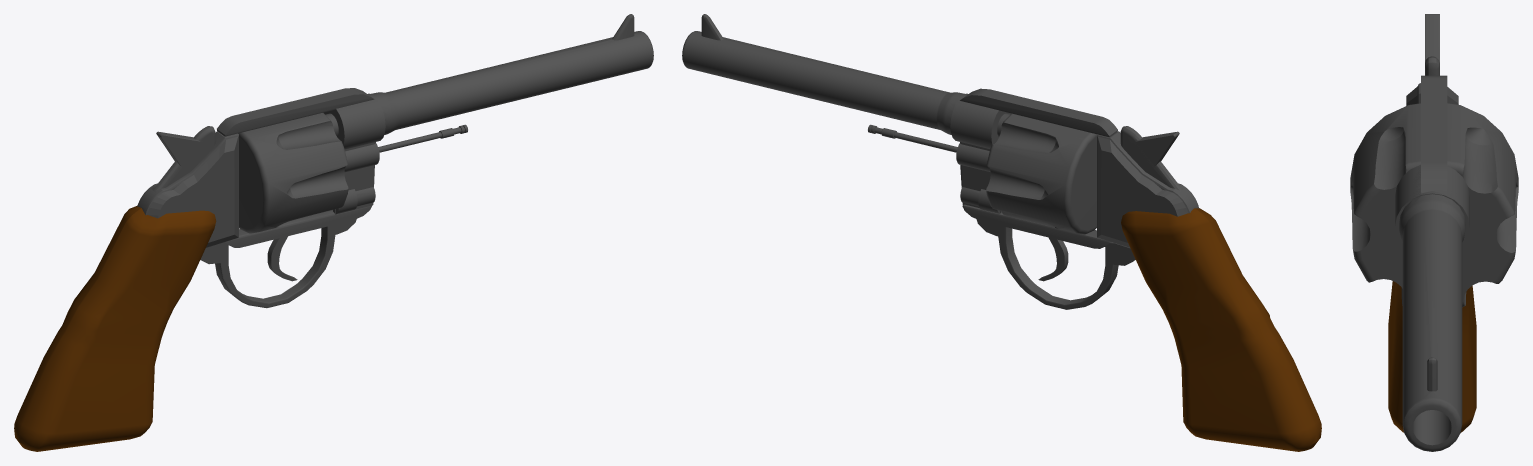
The model's file is revolver.fbx.
The picture shows the model from 3 angles, left to right: view 1: azimuth 30°, elevation 25°; view 2: azimuth 150°, elevation 25°; view 3: azimuth 270°, elevation 25°; orthographic projection. The views are drawn at different scales.
Visible parts, largest first — view 1: pCube24, pCube23, pCylinder12, pCylinder25; view 2: pCube24, pCube23, pCylinder12; view 3: pCube24, pCube23, pCylinder12.
Boxes of the visible parts, x1,y1,x2,y2 form: pCube24: (14,14,653,451); pCube23: (139,88,373,247); pCylinder12: (323,93,385,214); pCylinder25: (344,143,379,172); pCube24: (682,14,1321,451); pCube23: (961,89,1189,247); pCylinder12: (950,95,1011,213); pCube24: (1350,14,1518,451); pCube23: (1406,14,1458,162); pCylinder12: (1395,165,1469,226).
Size of the model in its own units: 8.17 by 3.72 by 1.25.
